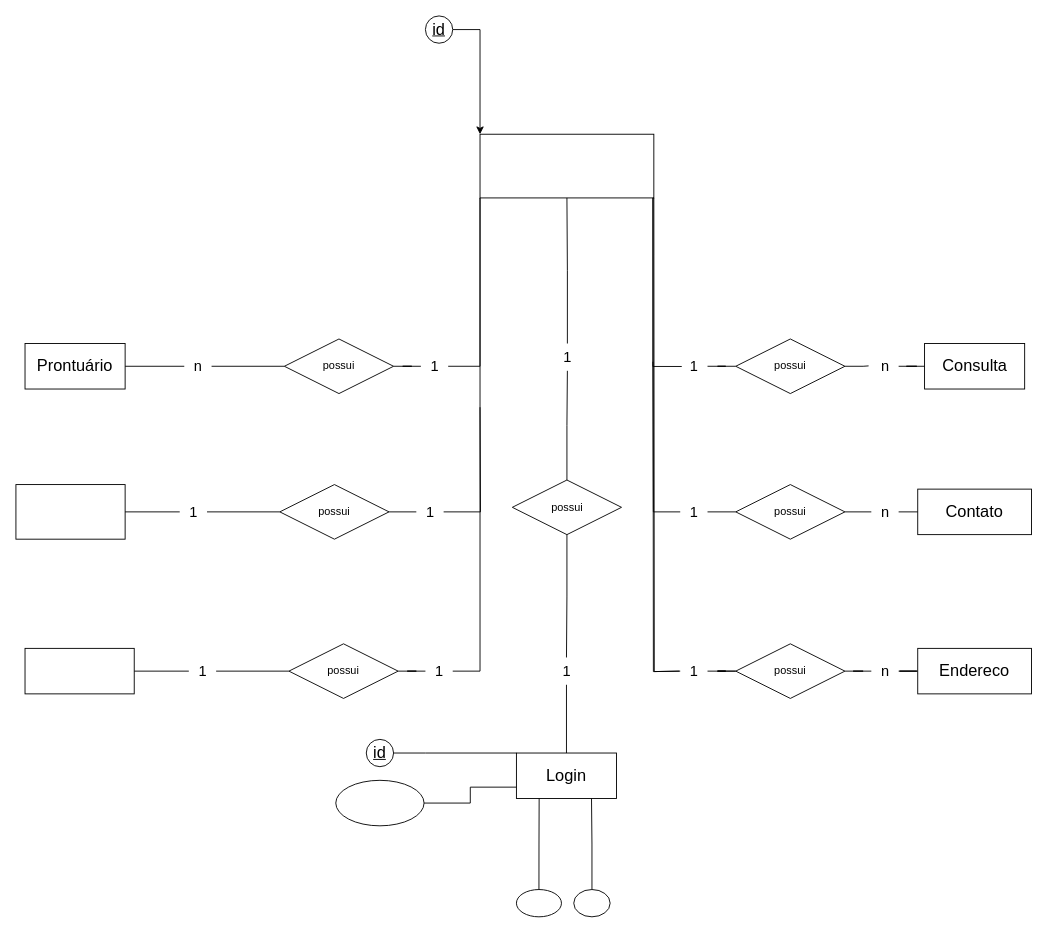
Image size: 1047x933. Some labels were removed from this diagram. The shapes that lost their labels are listed below. From the top down, each one's centre as x and y in pixels, then its label:
the point at 566,165: Pessoa
the point at 70,511: Categoria Pessoa
the point at 79,670: E-mail
the point at 379,802: id_pessoa
the point at 538,903: senha
the point at 591,903: perfil
